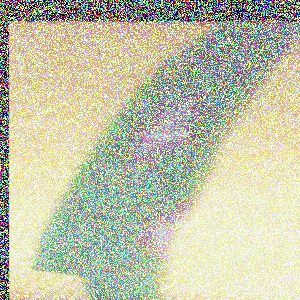Brown_Spot: (118, 77, 210, 173), (128, 198, 200, 263), (194, 35, 249, 77)
